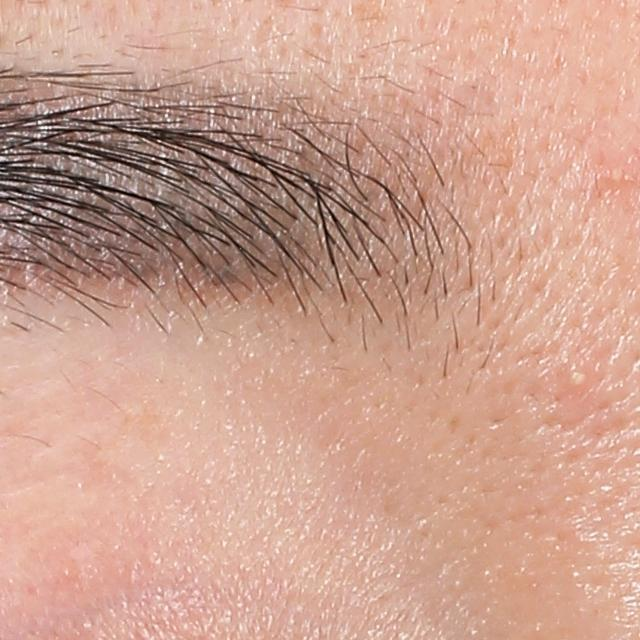pustule: (563, 368, 590, 390)
